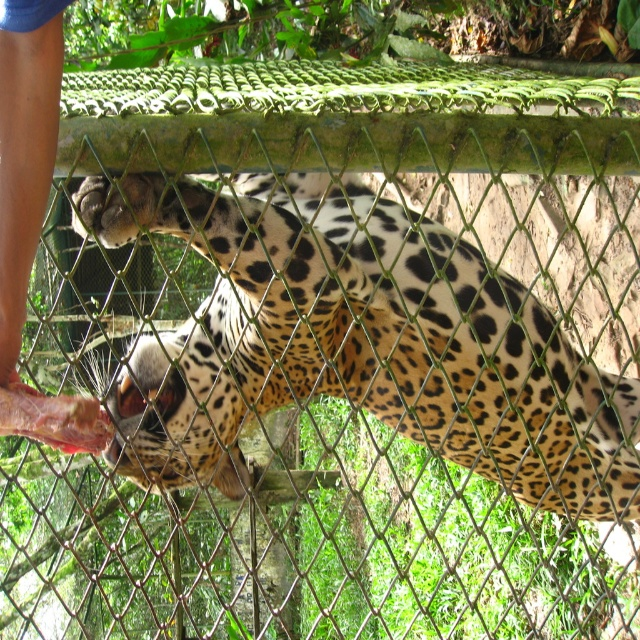Jaguar: (51, 175, 640, 500)
